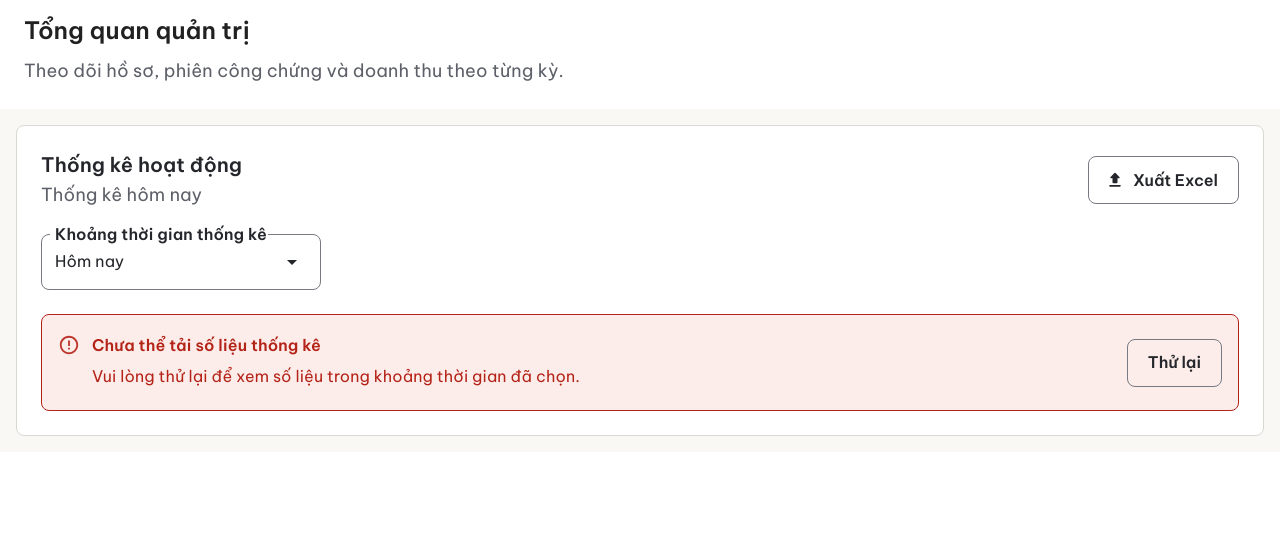
Test case: dashboard makes the original six today reads, retries the same metric reads and shows actual zero values
expect the text "Chưa thể tải số liệu thống kê" is shown: met, box [92,335,321,355]
Click the button "Thử lại": (1174, 363) [1127,339,1222,387]
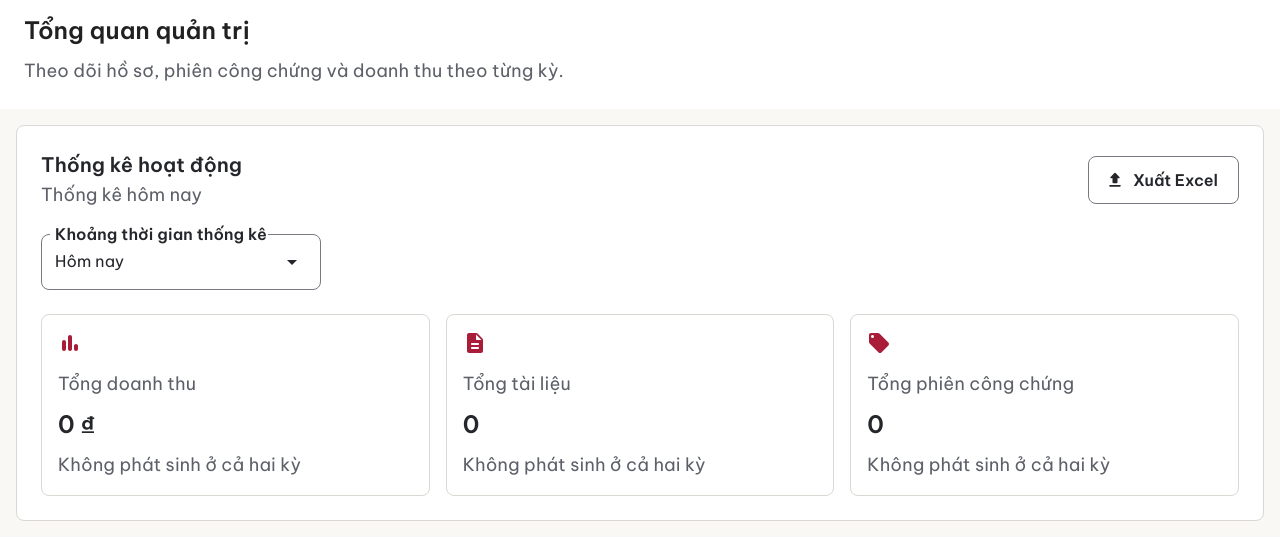
expect the heading "Tổng doanh thu" is shown: met, box [58,369,196,399]
expect the text "Không phát sinh ở cả hai kỳ" is shown 3 times: met, box [58,450,301,479]; [463,450,706,479]; [867,450,1110,479]
